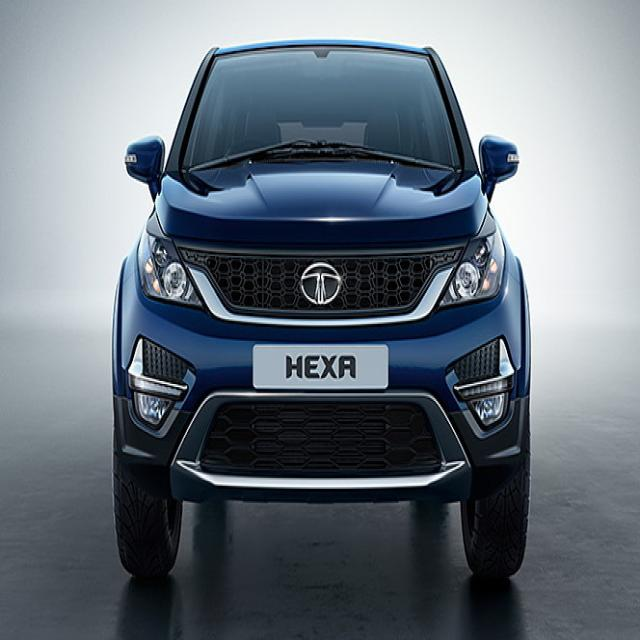Car: (101, 22, 543, 581)
